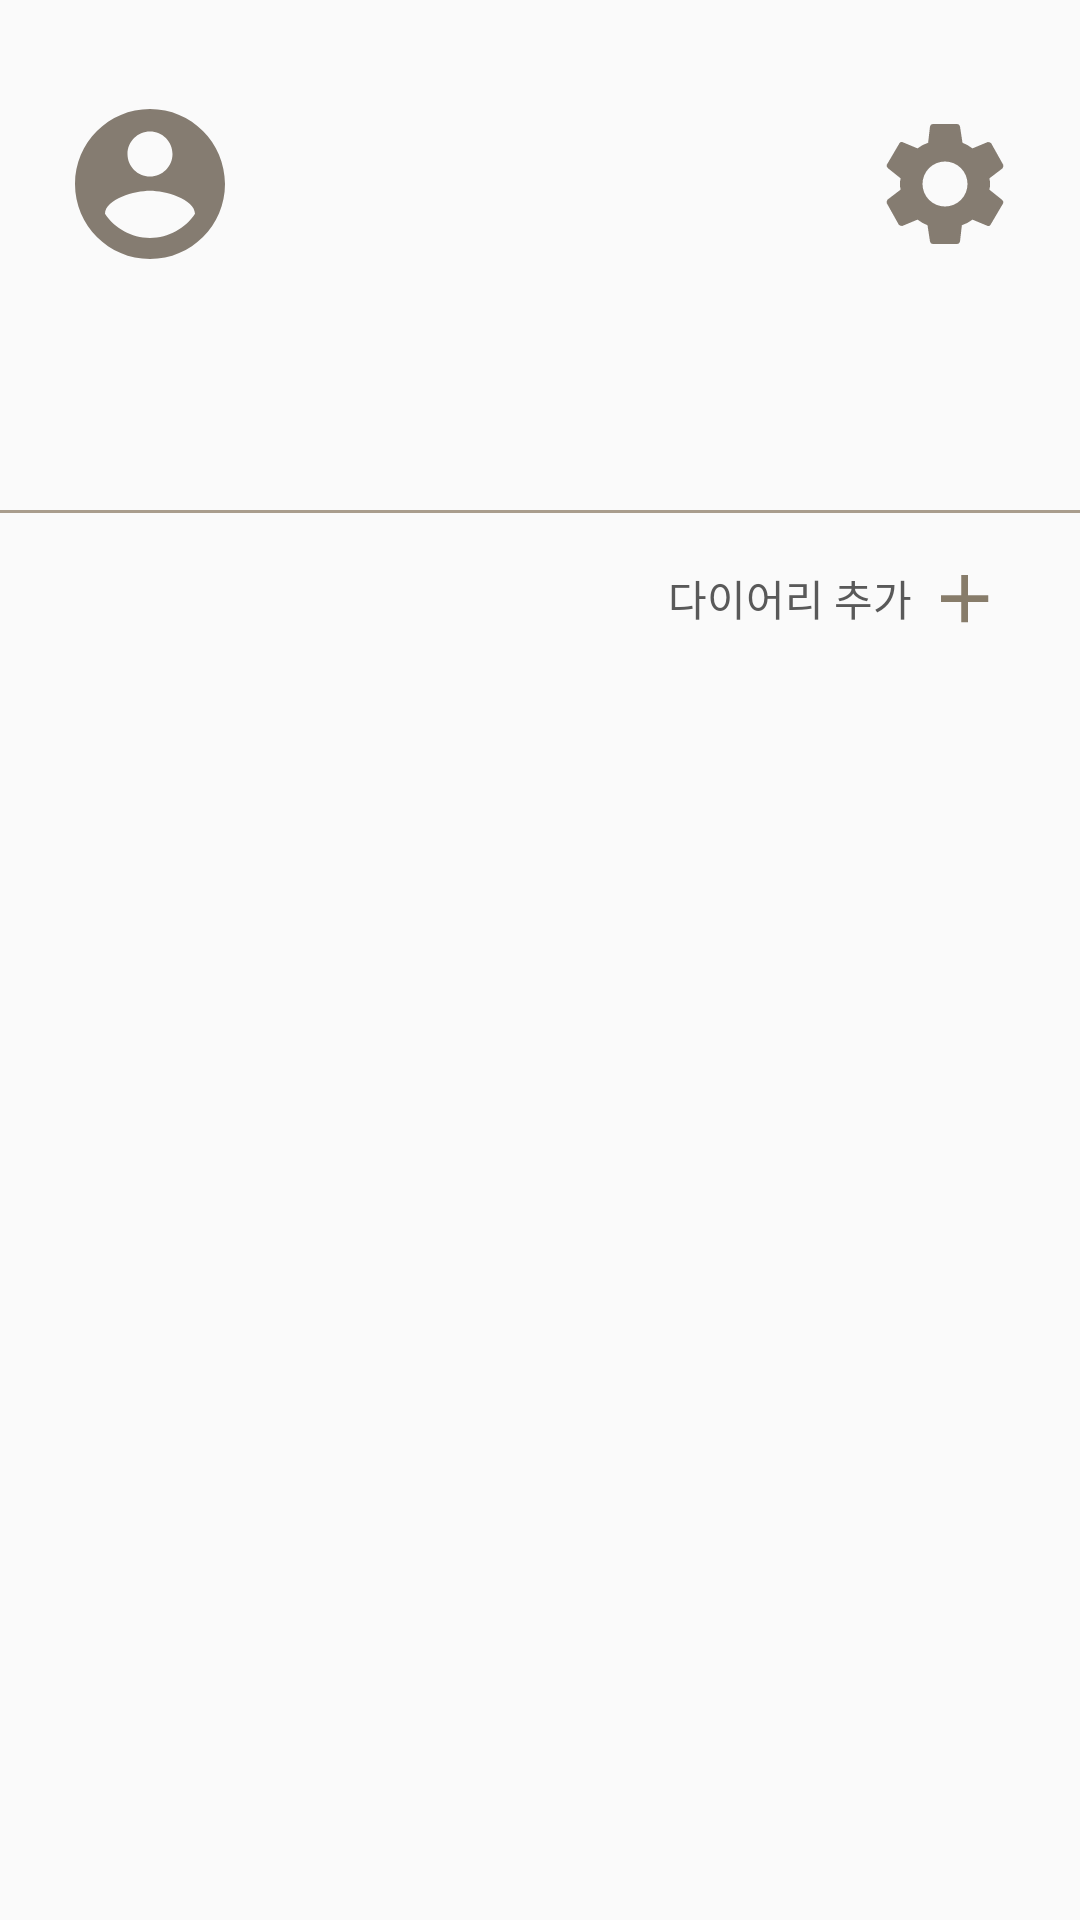

Icons on this 1080x1920 Android screen, each with the point to tap as (x,y):
account circle: (150,184)
add: (965,599)
settings: (945,184)
